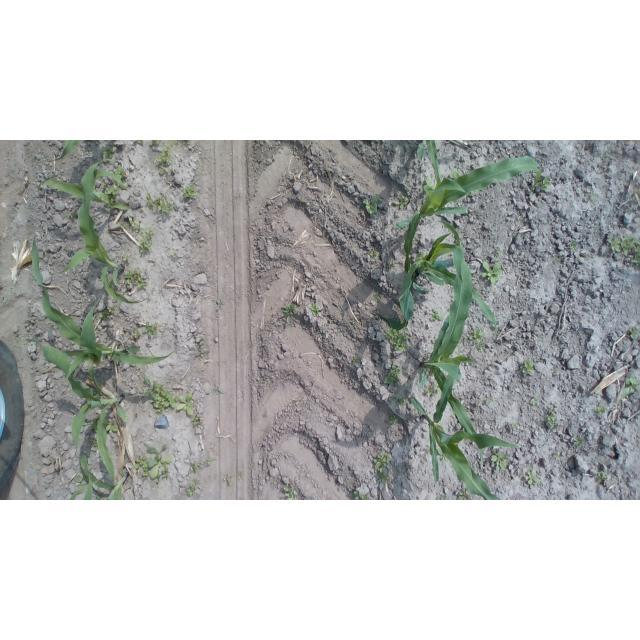Maize: (399, 140, 544, 292), (33, 234, 180, 382), (14, 336, 129, 484), (418, 218, 484, 474), (368, 231, 498, 337), (58, 158, 150, 303), (408, 395, 522, 499), (38, 170, 133, 211), (68, 449, 132, 500), (416, 140, 440, 185), (48, 141, 81, 162), (82, 473, 94, 499)
Weeds: (142, 376, 196, 416), (135, 443, 173, 485), (605, 234, 638, 259), (144, 190, 175, 215), (480, 260, 504, 286), (387, 326, 410, 353), (123, 268, 148, 290), (373, 453, 391, 483), (138, 225, 154, 255), (279, 303, 298, 326), (490, 451, 511, 471), (620, 376, 640, 397), (154, 143, 172, 165), (383, 363, 401, 385), (362, 194, 380, 216), (466, 327, 486, 343), (185, 478, 202, 496), (142, 321, 161, 336), (104, 185, 120, 202), (524, 468, 540, 484), (206, 383, 227, 395), (100, 143, 116, 158), (129, 217, 144, 233), (522, 360, 537, 375), (394, 196, 409, 211), (429, 307, 445, 321), (183, 184, 198, 198), (284, 486, 298, 500), (426, 381, 440, 395), (630, 246, 640, 265), (541, 176, 553, 191), (308, 303, 321, 316), (115, 165, 126, 180), (373, 290, 384, 304), (570, 240, 579, 257), (352, 491, 369, 500), (544, 415, 559, 425), (106, 419, 118, 431), (458, 488, 470, 500), (573, 435, 586, 446), (630, 327, 639, 342), (90, 437, 99, 452), (594, 406, 606, 417), (597, 469, 607, 482), (196, 348, 212, 356), (189, 460, 199, 472), (98, 311, 108, 322), (370, 250, 379, 262), (216, 298, 223, 313), (224, 474, 232, 487), (203, 455, 213, 465), (88, 421, 97, 432), (389, 415, 398, 426), (530, 394, 538, 406), (509, 422, 521, 430), (438, 449, 446, 461), (192, 415, 201, 425), (476, 342, 487, 350), (107, 306, 116, 315), (158, 166, 166, 176), (132, 330, 140, 340), (398, 396, 406, 406), (452, 167, 460, 177), (549, 406, 558, 414), (494, 246, 502, 255), (589, 190, 597, 199), (194, 339, 206, 345), (120, 218, 125, 231), (484, 396, 492, 404), (388, 261, 396, 269), (553, 256, 560, 265), (352, 357, 358, 367), (555, 450, 562, 458), (122, 255, 130, 262), (239, 472, 246, 480), (150, 140, 162, 144), (440, 494, 448, 500), (133, 141, 145, 144), (94, 414, 100, 420), (556, 365, 561, 372), (426, 444, 430, 452), (172, 252, 177, 258), (69, 213, 74, 219), (586, 254, 591, 260), (521, 219, 526, 224), (102, 183, 106, 189)
